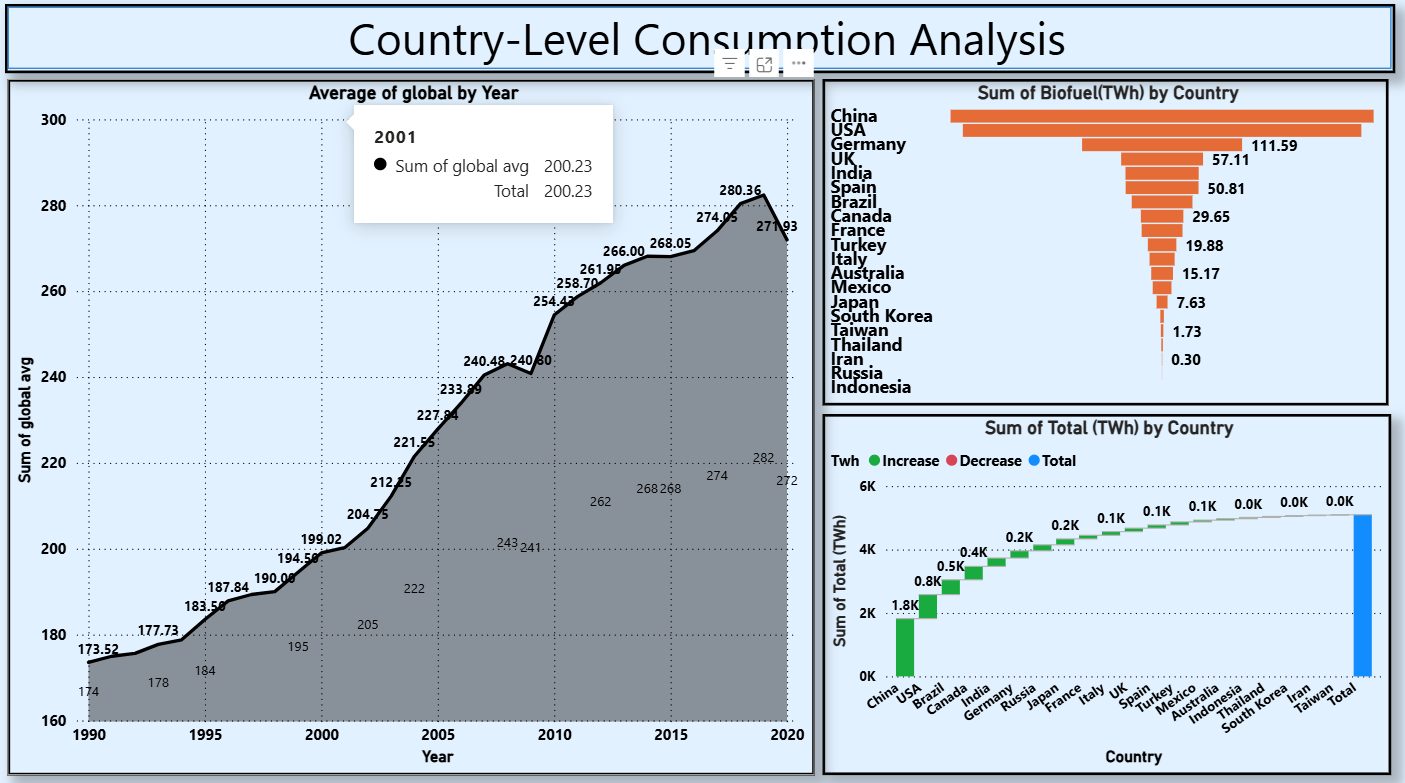

What the dashboard file says about the page in this screenshot:
{"tool":"powerbi","page":{"name":"Consumption Analysis ","canvas":[1280,720],"ordinal":2},"visuals":[{"type":"shape","box":[13,13,1253.8,62],"z":0},{"type":"funnel","fields":{"Category":["top20CountriesPowerGeneration.Country"],"Y":["Sum(top20CountriesPowerGeneration.Biofuel(TWh))"]},"box":[750.2,80.8,510.7,294.3],"z":1000},{"type":"waterfallChart","fields":{"Category":["top20CountriesPowerGeneration.Country"],"Y":["Sum(top20CountriesPowerGeneration.Total (TWh))"]},"box":[750.1,383.1,512.5,325.9],"z":2000},{"type":"stackedAreaChart","title":"Average of global by Year","fields":{"Category":["Country_Consumption_TWH.Year"],"Y":["Sum(Country_Consumption_TWH.global avg)"]},"box":[16,81,727.7,628],"z":3000}]}

Visuals, with their boxes in screenshot pixels (x1, y1, x2, y2), scaled from the page's 1280x720 canvas onto the 1405x783 screenshot:
shape: [x1=14, y1=14, x2=1391, y2=82]
funnel - top20CountriesPowerGeneration.Country x Sum(top20CountriesPowerGeneration.Biofuel(TWh)): [x1=823, y1=88, x2=1384, y2=408]
waterfallChart - top20CountriesPowerGeneration.Country x Sum(top20CountriesPowerGeneration.Total (TWh)): [x1=823, y1=417, x2=1386, y2=771]
"Average of global by Year" stackedAreaChart: [x1=18, y1=88, x2=816, y2=771]
